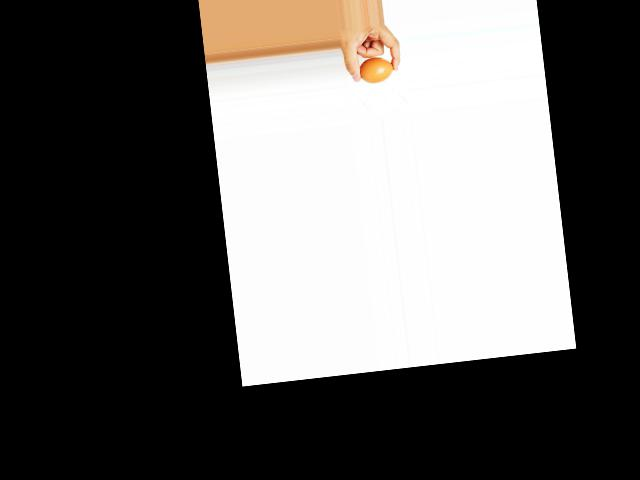egg: (358, 55, 394, 85)
